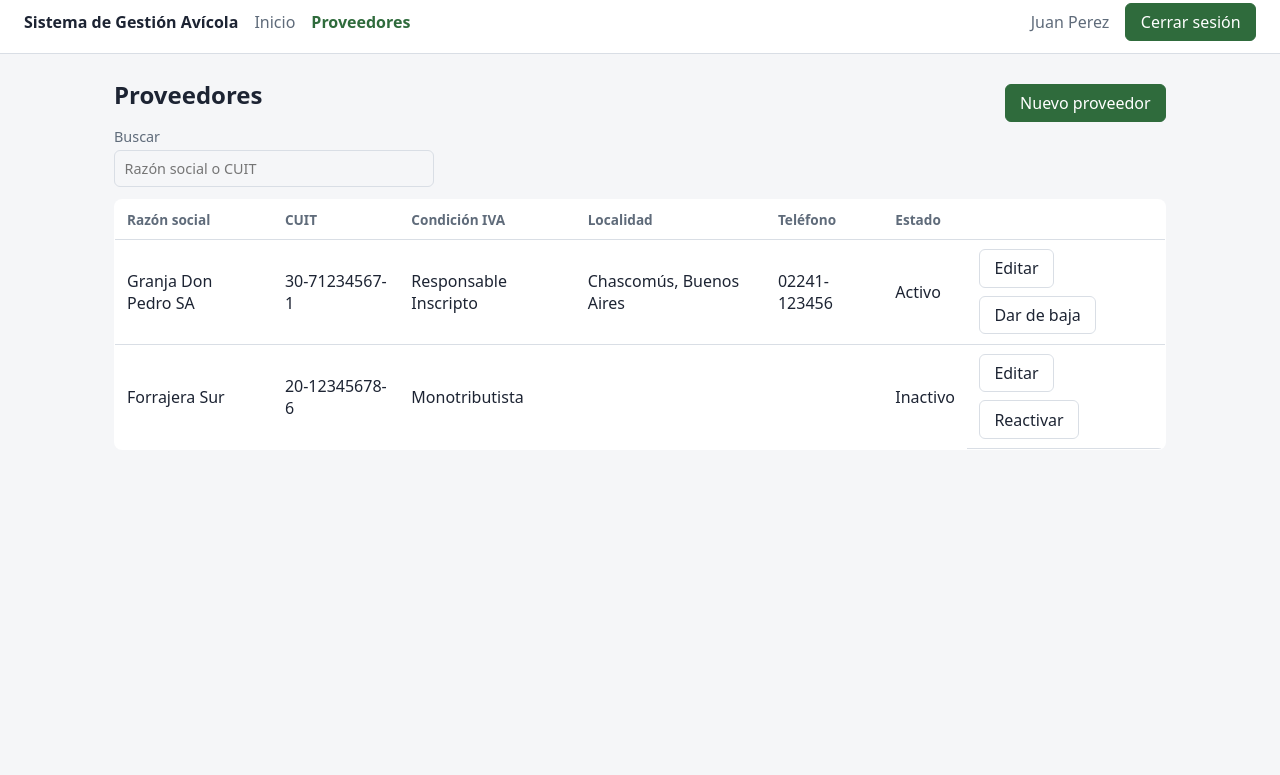
Test: SuppliersPage › shows an invalid CUIT error in Spanish
Click the button "Nuevo proveedor".
click(1085, 103)  # box [1005,84,1166,122]
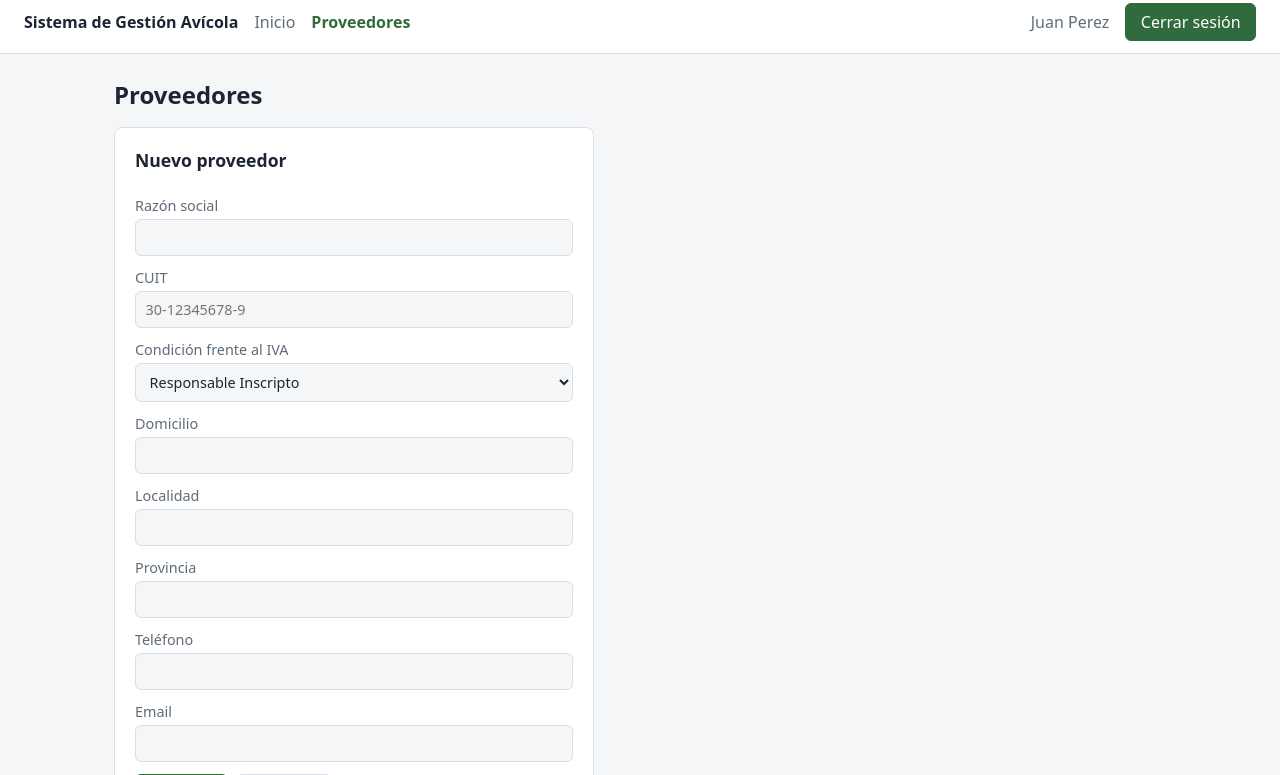
Type "Avícola del Sur" into the field labelled "Razón social".
click(354, 238); type("Avícola del Sur")  # box [135,219,573,256]
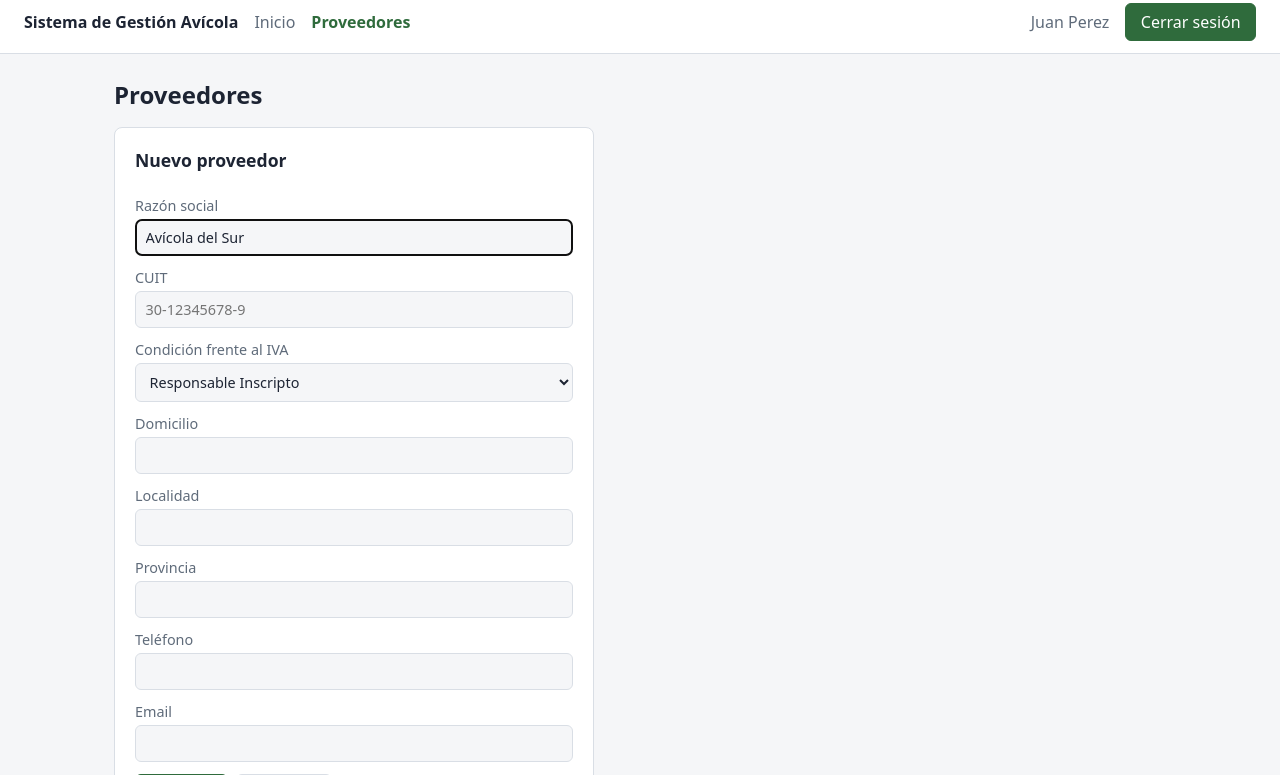
Type "30-50000000-4" into the field labelled "CUIT".
click(354, 310); type("30-50000000-4")  # box [135,291,573,328]
(page scrolled)
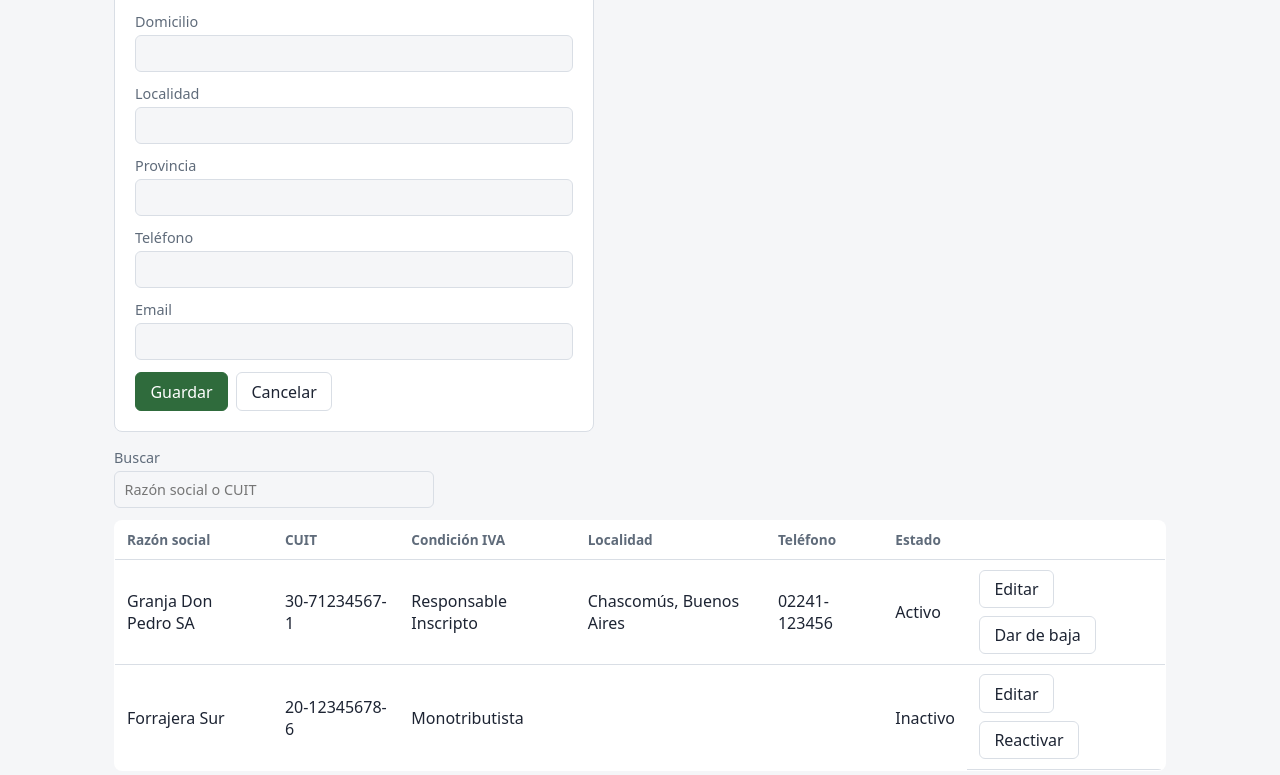
Click the button "Guardar".
click(182, 392)  # box [135,372,228,411]
(page scrolled)
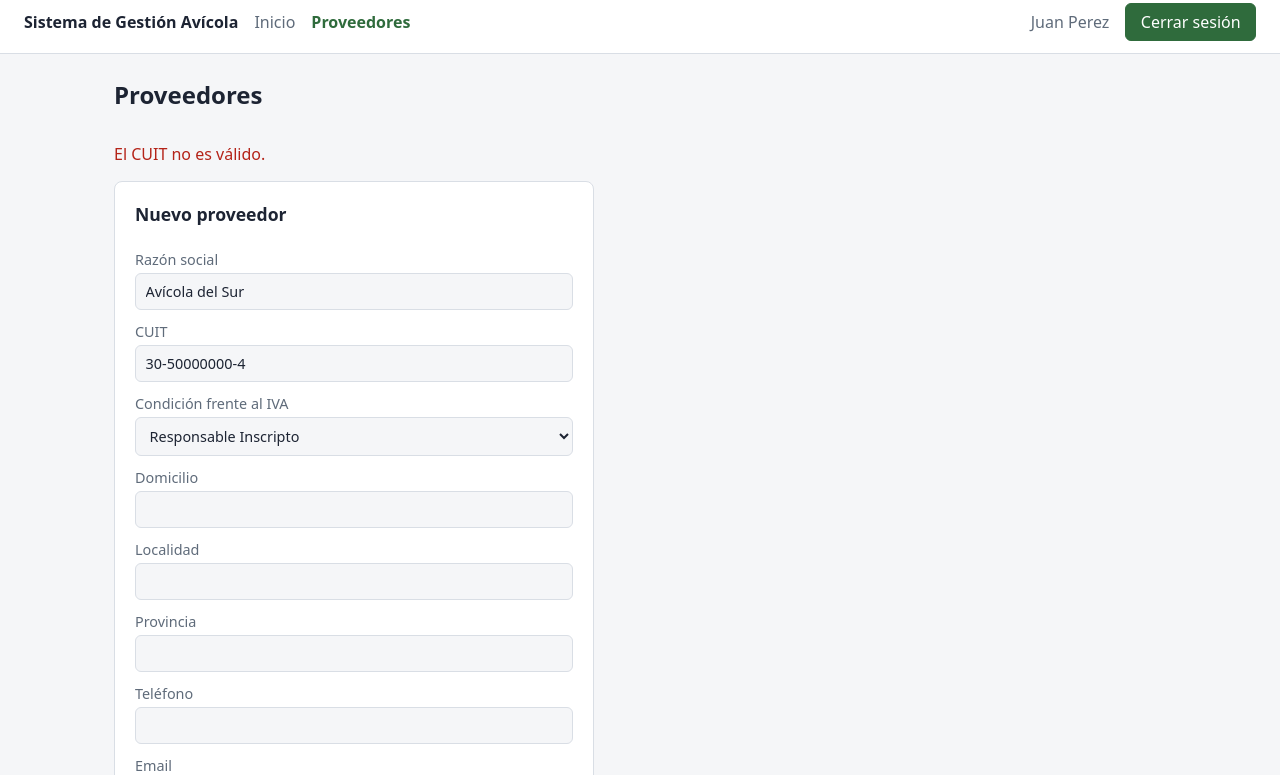
Now the message reads "El CUIT no es válido.", box [114,143,265,165]
